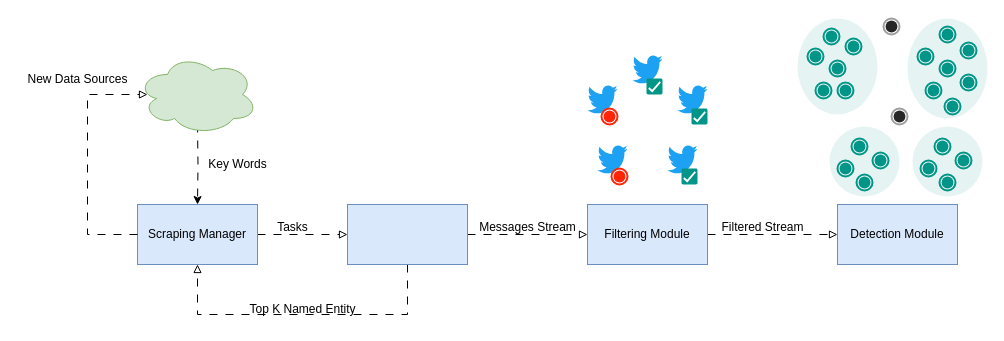
This 1004x341 diagram has some shape labels left out. The centre of each missing label's shape, as x and y in pixels:
Data Sources: pixel 197 94
Scraper: pixel 407 234
